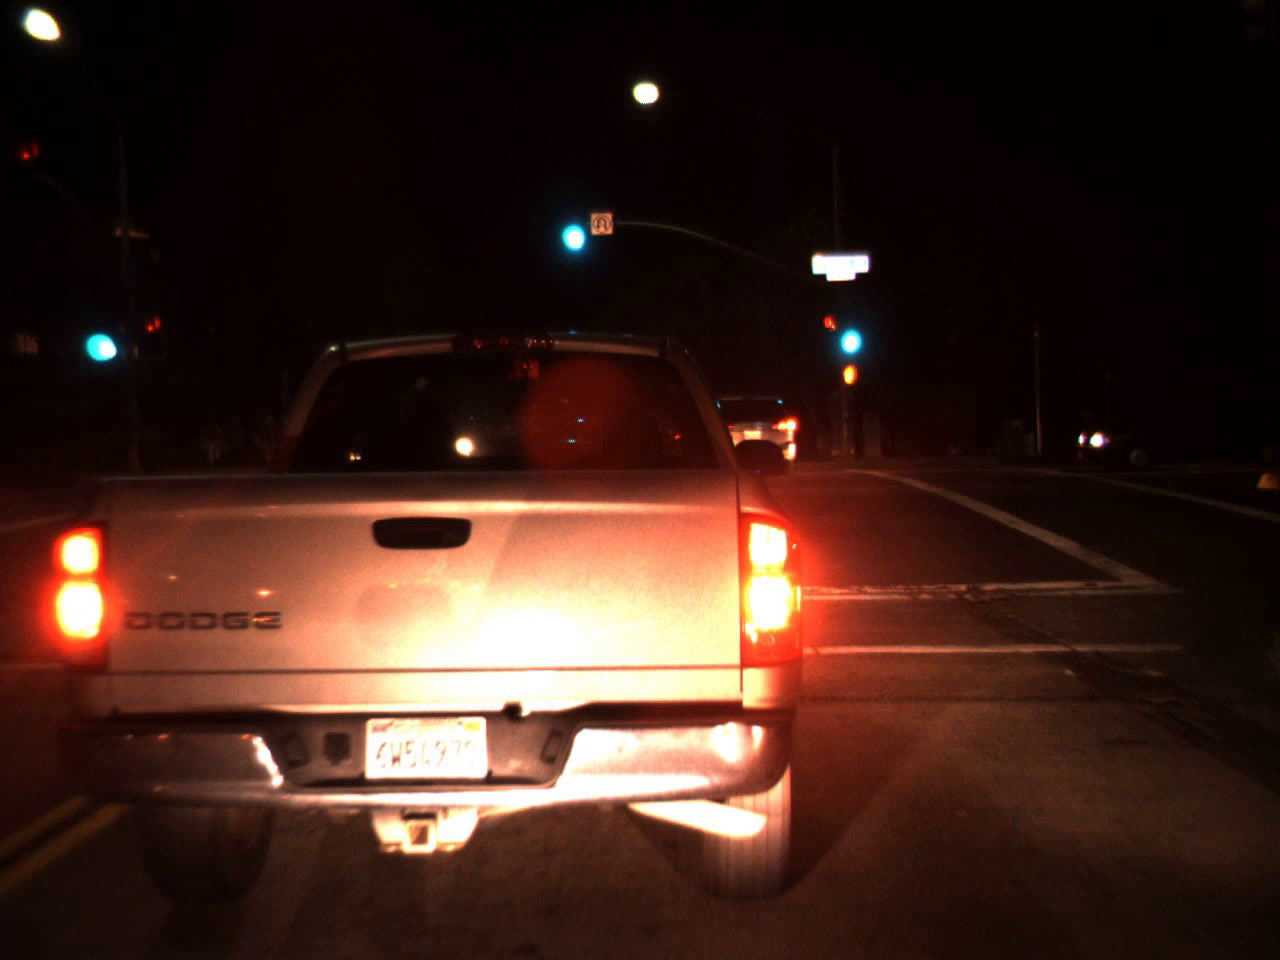go: (76, 297, 119, 372), (552, 190, 589, 262), (833, 298, 865, 364)
